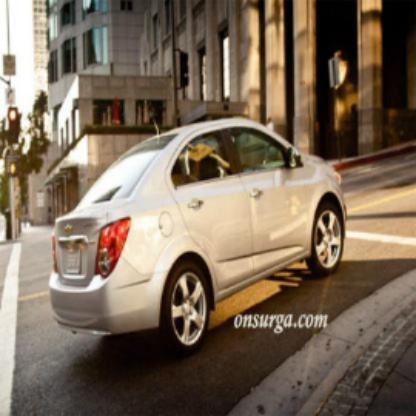Vehicle: (50, 116, 347, 345)
